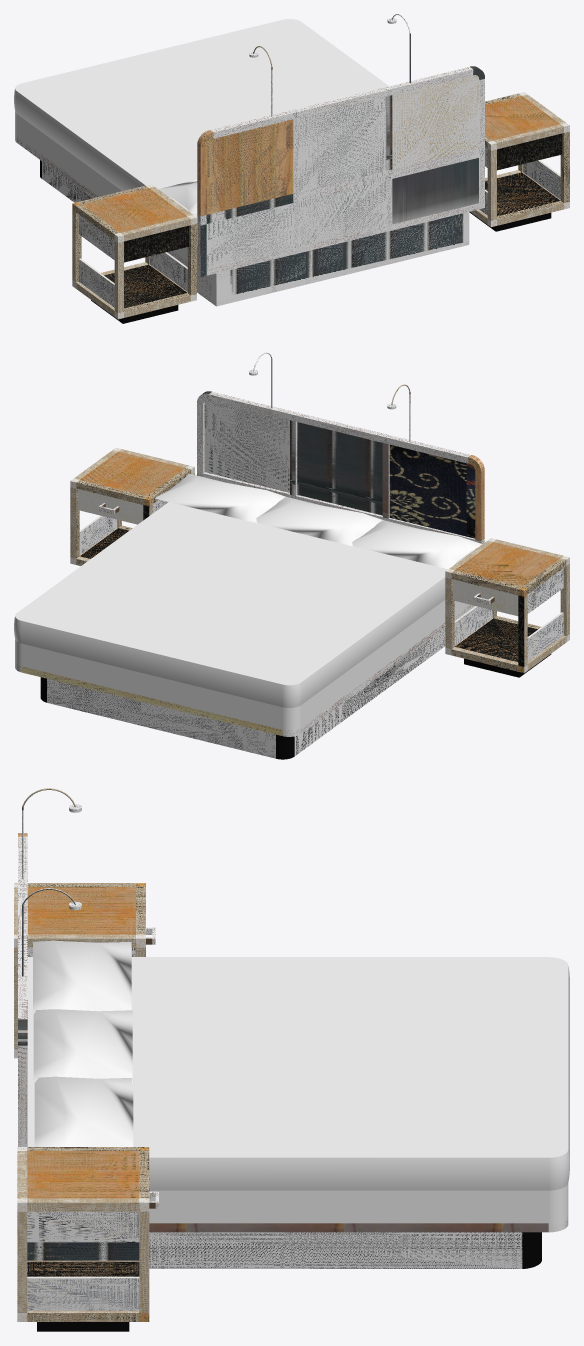
3 renders of one model, top to bottom at view 1: azimuth 30°, elevation 25°; view 2: azimuth 150°, elevation 25°; view 3: azimuth 270°, elevation 25°, orthographic. The views are drawn at different scales.
Parts seen in each view (by area): view 1: mesh3_mesh3-geometry, mesh2_mesh2-geometry, mesh1_mesh1-geometry; view 2: mesh3_mesh3-geometry, mesh2_mesh2-geometry, mesh1_mesh1-geometry; view 3: mesh3_mesh3-geometry, mesh2_mesh2-geometry, mesh1_mesh1-geometry.
Boxes of the visible parts, x1=… form: mesh3_mesh3-geometry: x1=14, y1=14, x2=484, y2=306; mesh2_mesh2-geometry: x1=72, y1=92, x2=569, y2=323; mesh1_mesh1-geometry: x1=158, y1=180, x2=197, y2=213; mesh3_mesh3-geometry: x1=14, y1=352, x2=484, y2=759; mesh2_mesh2-geometry: x1=70, y1=447, x2=569, y2=677; mesh1_mesh1-geometry: x1=155, y1=473, x2=482, y2=568; mesh3_mesh3-geometry: x1=18, y1=833, x2=569, y2=1268; mesh2_mesh2-geometry: x1=14, y1=883, x2=158, y2=1331; mesh1_mesh1-geometry: x1=33, y1=940, x2=133, y2=1146.
Size of the model in its own units: 0.7473 by 0.3737 by 0.5494.
